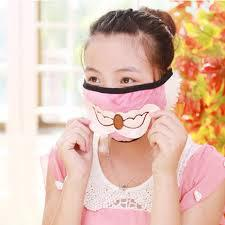OK: (82, 61, 164, 135)
